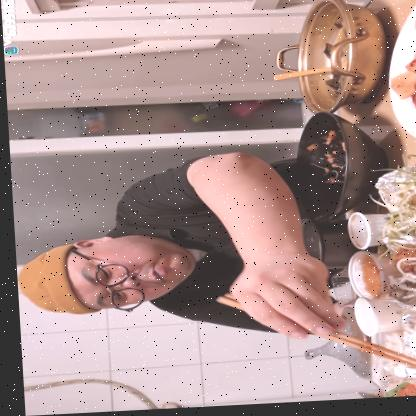streamer: (9, 150, 344, 354)
